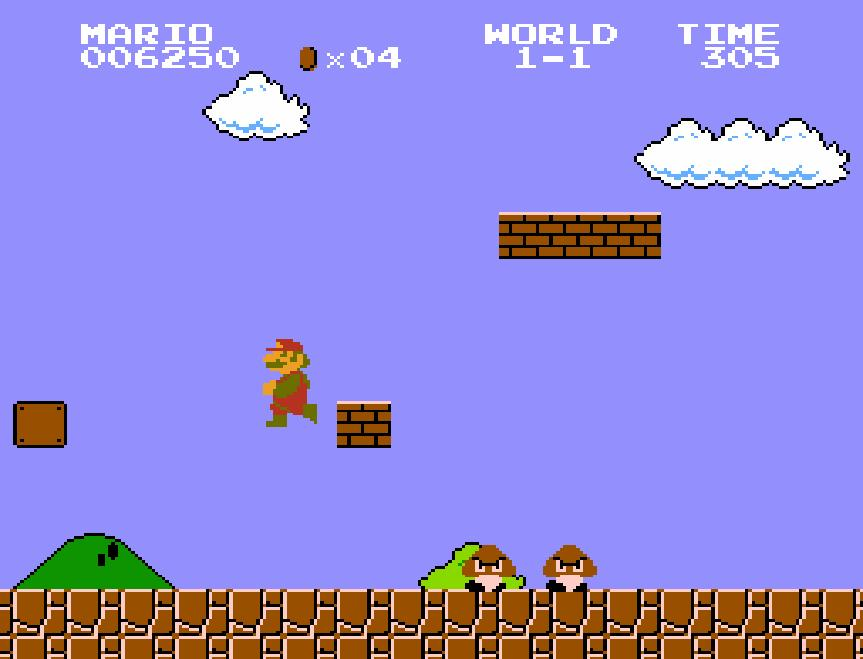big_mario: (260, 330, 318, 429)
